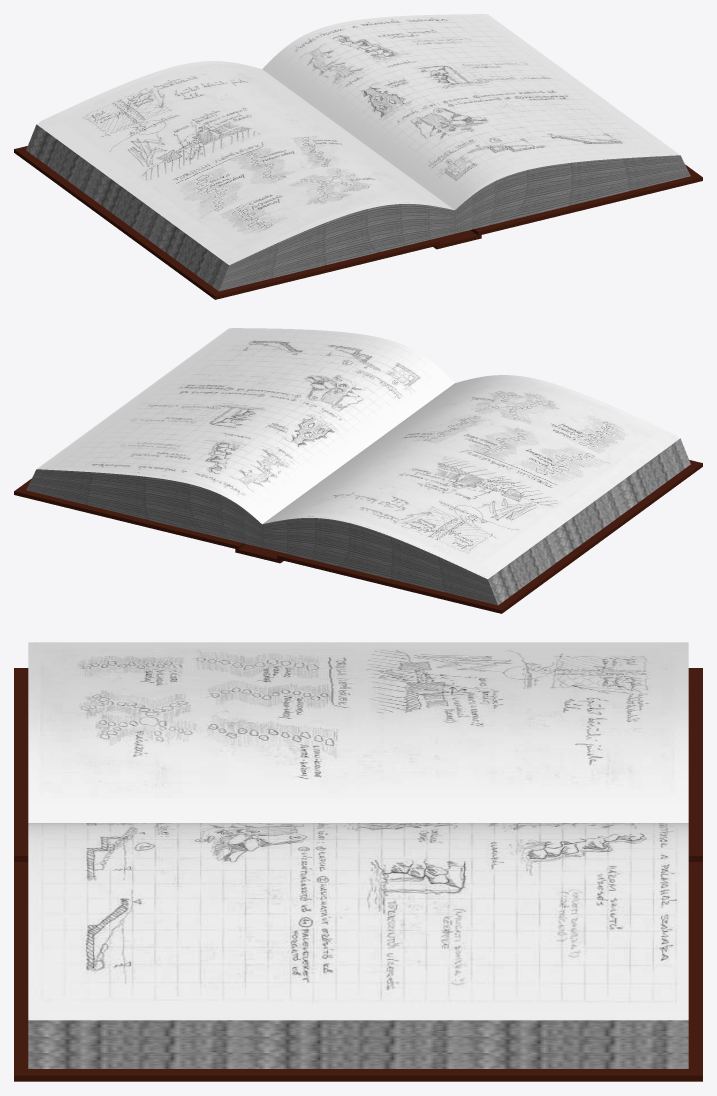
Rendered from book-noCGtex.fbx.
The picture shows the model from 3 angles, top to bottom: view 1: azimuth 30°, elevation 25°; view 2: azimuth 150°, elevation 25°; view 3: azimuth 270°, elevation 25°; orthographic projection. The views are drawn at different scales.
Visible parts, largest first — view 1: jobb_oldali_lapok.001, bal_oldali_lapok.002, bal_oldali_lapok, jobb_oldali_lapok, bal_fedlap, jobb fedlap, gerinc; view 2: jobb_oldali_lapok.001, bal_oldali_lapok.002, bal_oldali_lapok, jobb_oldali_lapok, bal_fedlap, jobb fedlap, gerinc; view 3: jobb_oldali_lapok.001, bal_oldali_lapok.002, jobb_oldali_lapok, jobb fedlap, bal_fedlap, gerinc.
Boxes of the visible parts, left/top/right/bottom form: jobb_oldali_lapok.001: left=262, top=14, right=677, bottom=209; bal_oldali_lapok.002: left=39, top=61, right=454, bottom=262; bal_oldali_lapok: left=26, top=122, right=454, bottom=291; jobb_oldali_lapok: left=455, top=14, right=690, bottom=233; bal_fedlap: left=14, top=146, right=439, bottom=299; jobb fedlap: left=471, top=164, right=702, bottom=235; gerinc: left=433, top=230, right=481, bottom=249; jobb_oldali_lapok.001: left=39, top=328, right=454, bottom=523; bal_oldali_lapok.002: left=262, top=375, right=677, bottom=576; bal_oldali_lapok: left=262, top=436, right=690, bottom=605; jobb_oldali_lapok: left=26, top=328, right=261, bottom=547; bal_fedlap: left=277, top=460, right=702, bottom=613; jobb fedlap: left=14, top=478, right=245, bottom=549; gerinc: left=235, top=544, right=283, bottom=563; jobb_oldali_lapok.001: left=28, top=823, right=688, bottom=1016; bal_oldali_lapok.002: left=28, top=642, right=688, bottom=822; jobb_oldali_lapok: left=28, top=1017, right=688, bottom=1068; jobb fedlap: left=14, top=888, right=702, bottom=1081; bal_fedlap: left=14, top=668, right=702, bottom=861; gerinc: left=14, top=862, right=702, bottom=887.
Bounding box in the file's own units: 43.4 × 4.92 × 31.
Materials: 6 (3 with a texture image).
